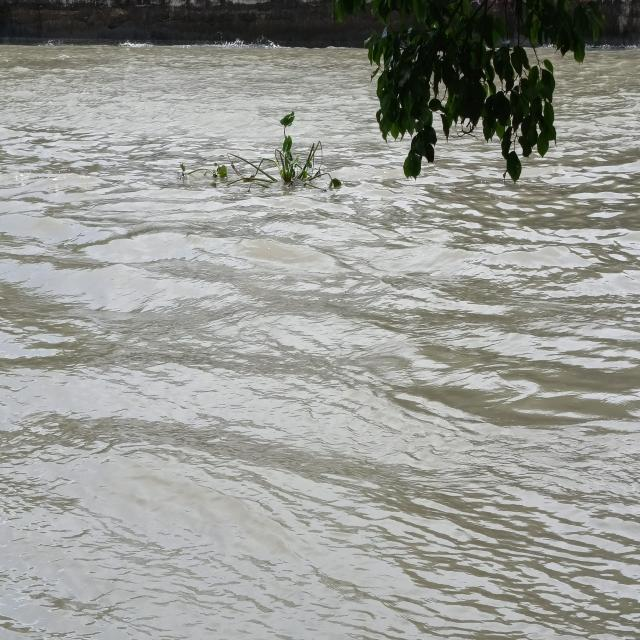Organic Debris: (173, 108, 342, 194)
